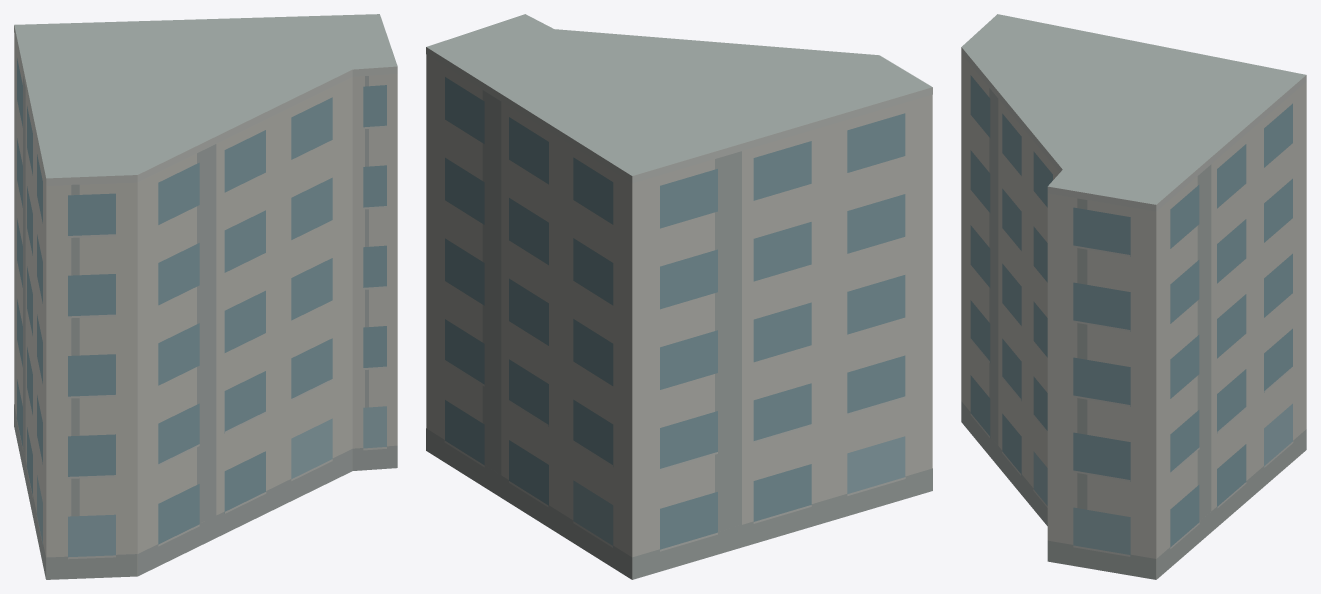
File: survey-upis-33004769.glb
The picture shows the model from 3 angles, left to right: view 1: azimuth 30°, elevation 25°; view 2: azimuth 150°, elevation 25°; view 3: azimuth 270°, elevation 25°; orthographic projection. The views are drawn at different scales.
Parts seen in each view (by area): view 1: survey-upis-33004769.tmp; view 2: survey-upis-33004769.tmp; view 3: survey-upis-33004769.tmp.
Part boxes in pixels (x1,y1,x2,y2): survey-upis-33004769.tmp: (14, 14, 397, 579); survey-upis-33004769.tmp: (426, 14, 932, 579); survey-upis-33004769.tmp: (961, 14, 1306, 579).
Bounding box in the file's own units: 14.42 × 13.2 × 11.02.
